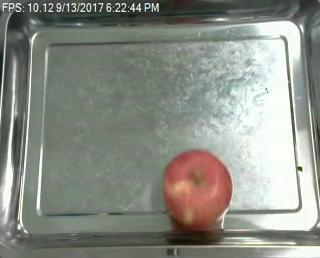apple: (162, 149, 233, 229)
